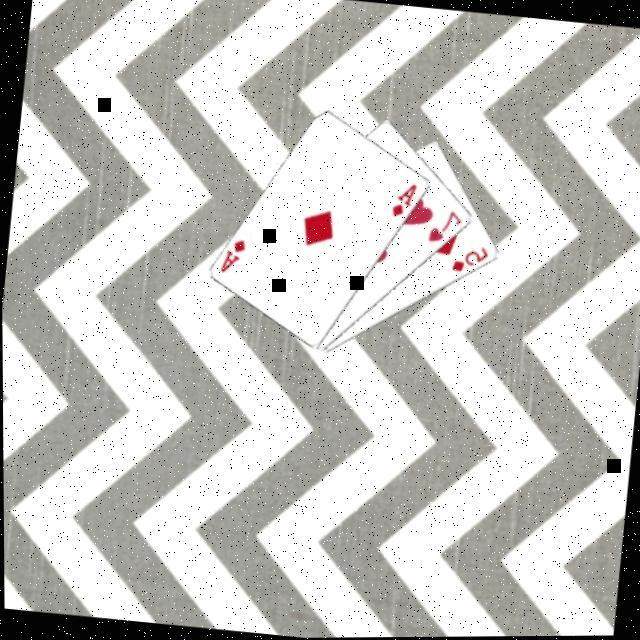5D: (449, 243, 492, 279)
7H: (426, 207, 466, 249)
AD: (389, 179, 421, 222), (218, 236, 250, 278)
